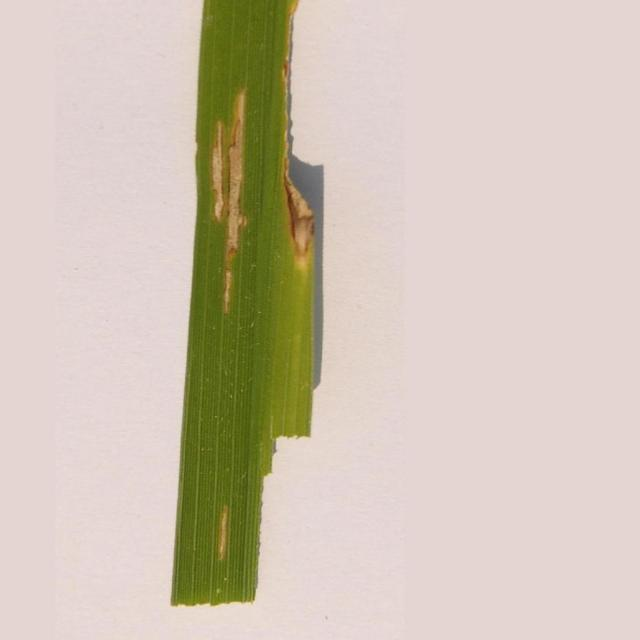leaf blight: (198, 1, 323, 312)
